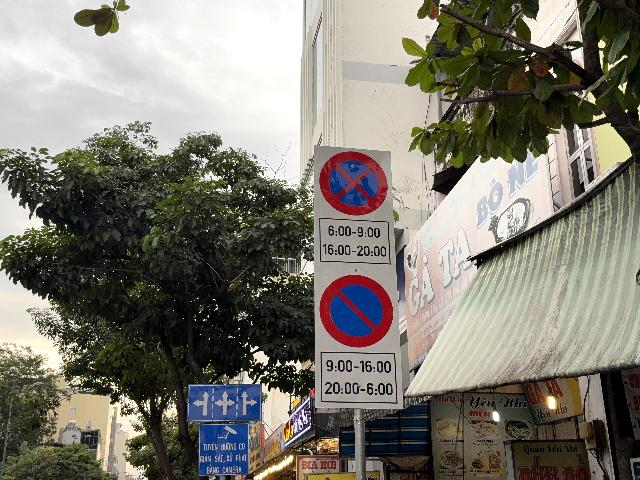cam-do-xe: (319, 273, 394, 348)
cam-dung-va-do-xe: (320, 150, 387, 216)
